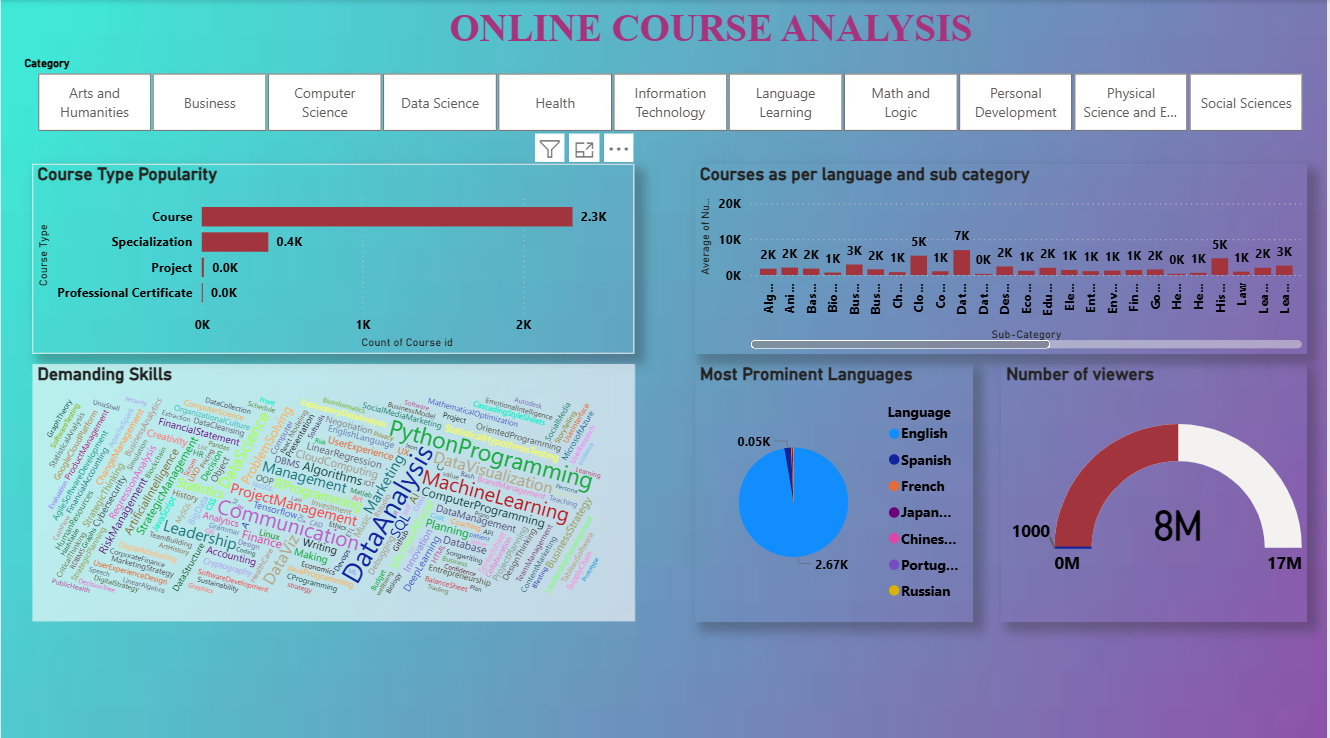

What the dashboard file says about the page in this screenshot:
{"tool":"powerbi","page":{"name":"Page 1","canvas":[1280,720],"ordinal":0},"visuals":[{"type":"textbox","box":[9.6,0,1270.7,63.1],"z":0},{"type":"slicer","fields":{"Values":["Online_Courses.Category"]},"box":[9.6,49.4,1270.7,83.7],"z":1000},{"type":"barChart","title":"Course Type Popularity","fields":{"Y":["CountNonNull(Online_Courses.Course id)"],"Category":["Online_Courses.Course Type"]},"box":[30.2,158,581.5,183.4],"z":2000},{"type":"columnChart","title":"Courses as per language and sub category","fields":{"Category":["Online_Courses.Sub-Category","Online_Courses.Language"],"Y":["Avg(Online_Courses.Number of viewers)"]},"box":[669.6,158,591.2,183.4],"z":3000},{"type":"WordCloud1447959067750","title":"Demanding Skills","fields":{"Category":["Online_Courses.Skills"]},"box":[30.2,351.1,581.5,248.5],"z":4000},{"type":"pieChart","title":"Most Prominent Languages","fields":{"Category":["Online_Courses.Language"],"Y":["CountNonNull(Online_Courses.Course id)"]},"box":[669.6,351.1,269,248.5],"z":5000},{"type":"gauge","title":"Number of viewers","fields":{"Y":["Sum(Online_Courses.Number of viewers)"]},"box":[965.2,351.1,295.6,248.5],"z":6000}]}

Visuals, with their boxes in screenshot pixels (x1, y1, x2, y2), scaled from the page's 1280x720 canvas onto the 1330x738 screenshot:
textbox: 10, 0, 1329, 65
slicer - Online_Courses.Category: 10, 51, 1329, 136
"Course Type Popularity" barChart: 31, 162, 636, 350
"Courses as per language and sub category" columnChart: 696, 162, 1310, 350
"Demanding Skills" WordCloud1447959067750: 31, 360, 636, 615
"Most Prominent Languages" pieChart: 696, 360, 975, 615
"Number of viewers" gauge: 1003, 360, 1310, 615
